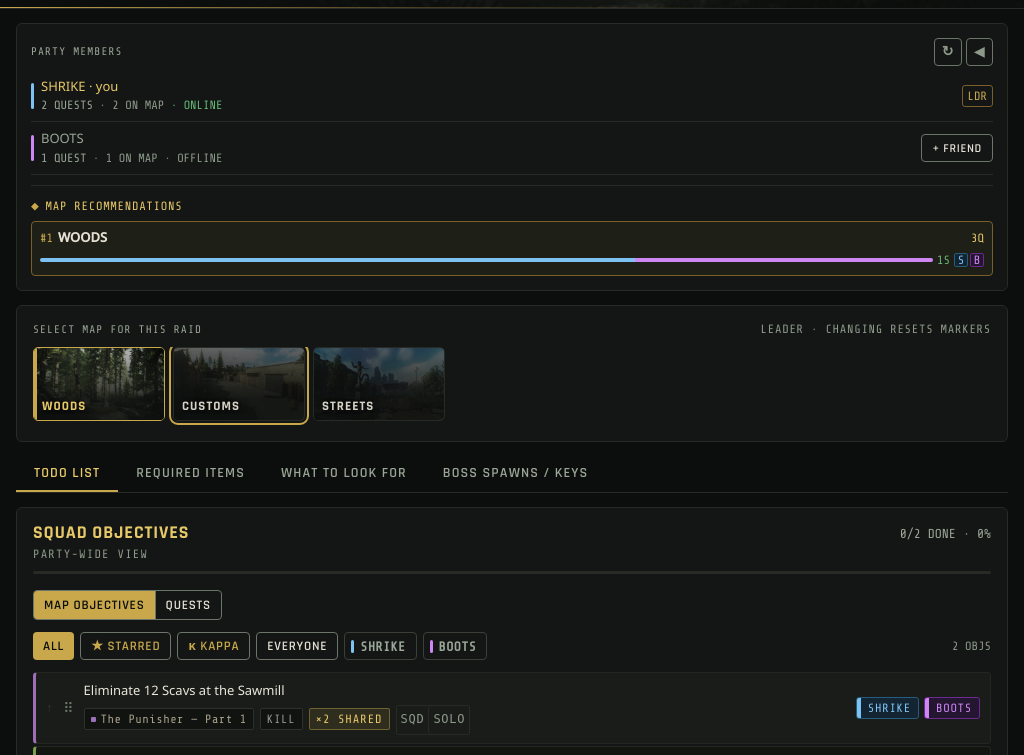
Test: Room map selector › moves focus into the map confirmation and restores it on Escape
(page scrolled)
Click the button "CUSTOMS": [239, 384] box [173,347,305,421]
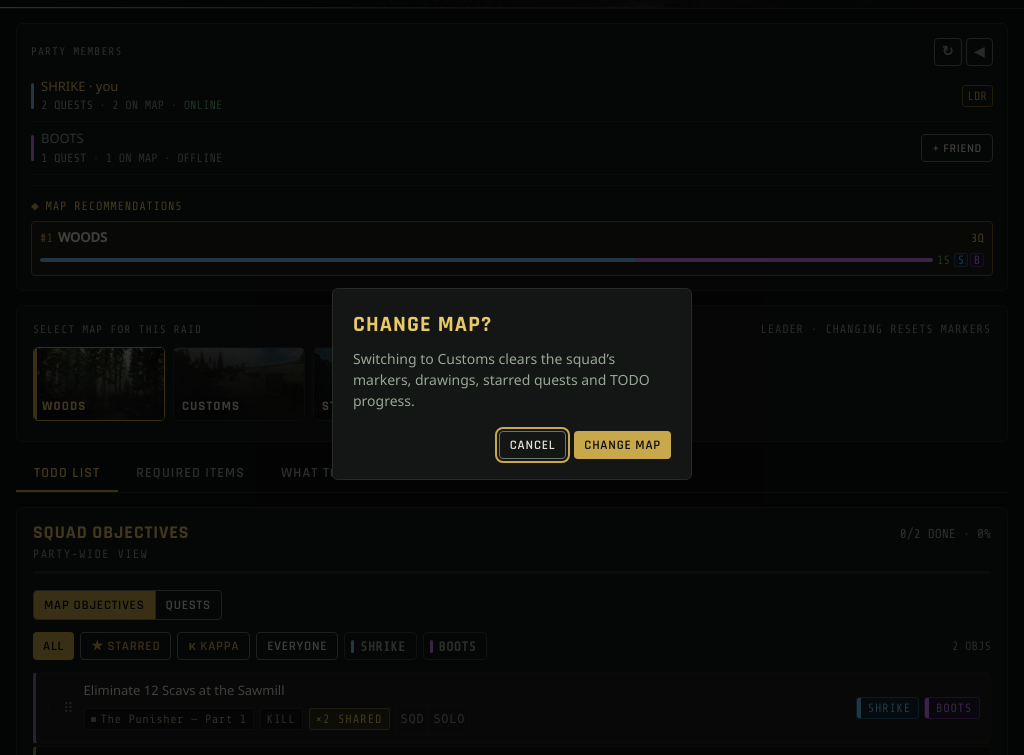
Press Escape
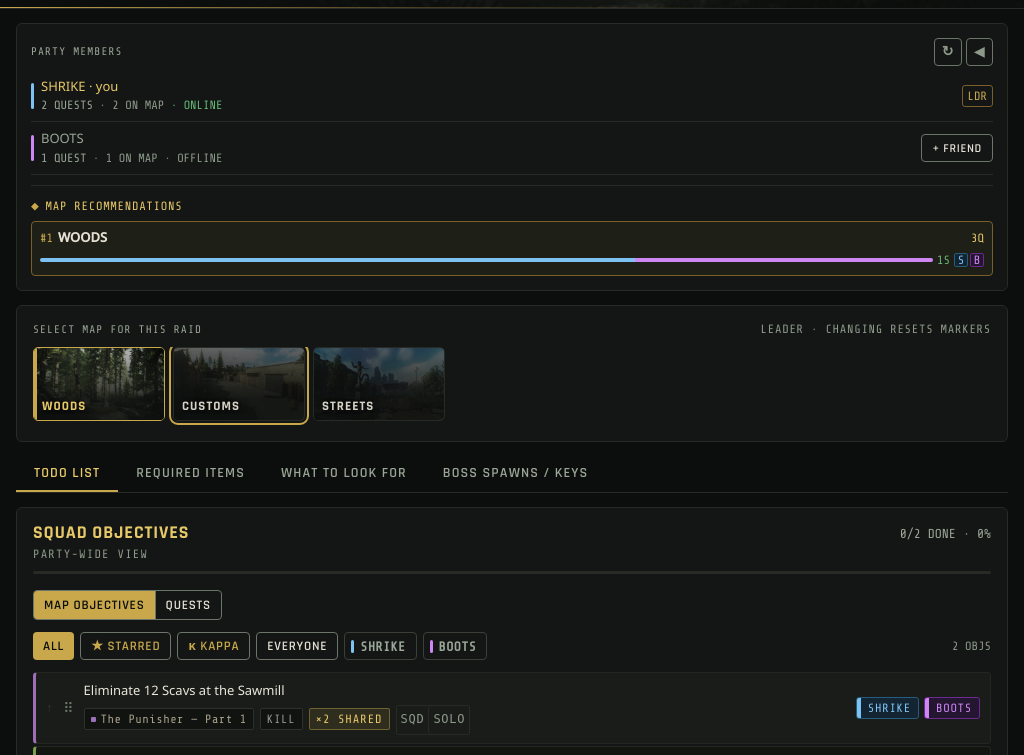
Now the heading "CHANGE MAP?" is gone
